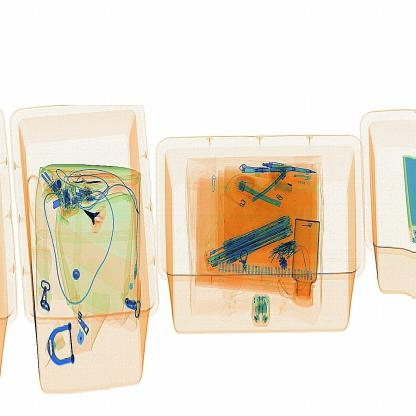gun: (78, 197, 112, 233)
